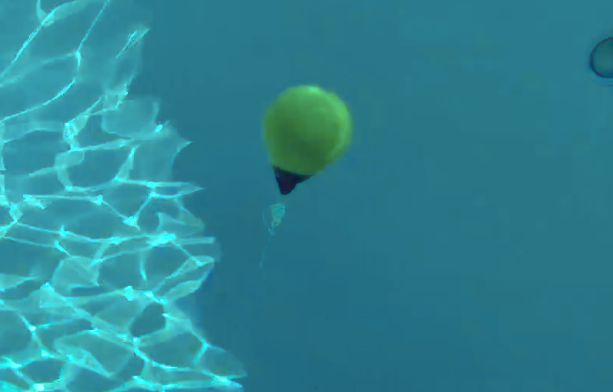yellow_buoy: (255, 74, 362, 200)
